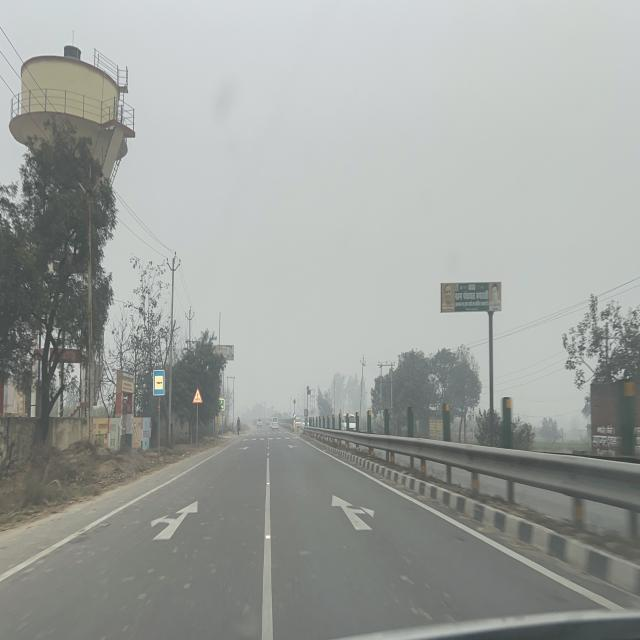INFORMATION: (153, 369, 165, 397)
PEDESTRIAN_CROSSING: (192, 387, 203, 404)
